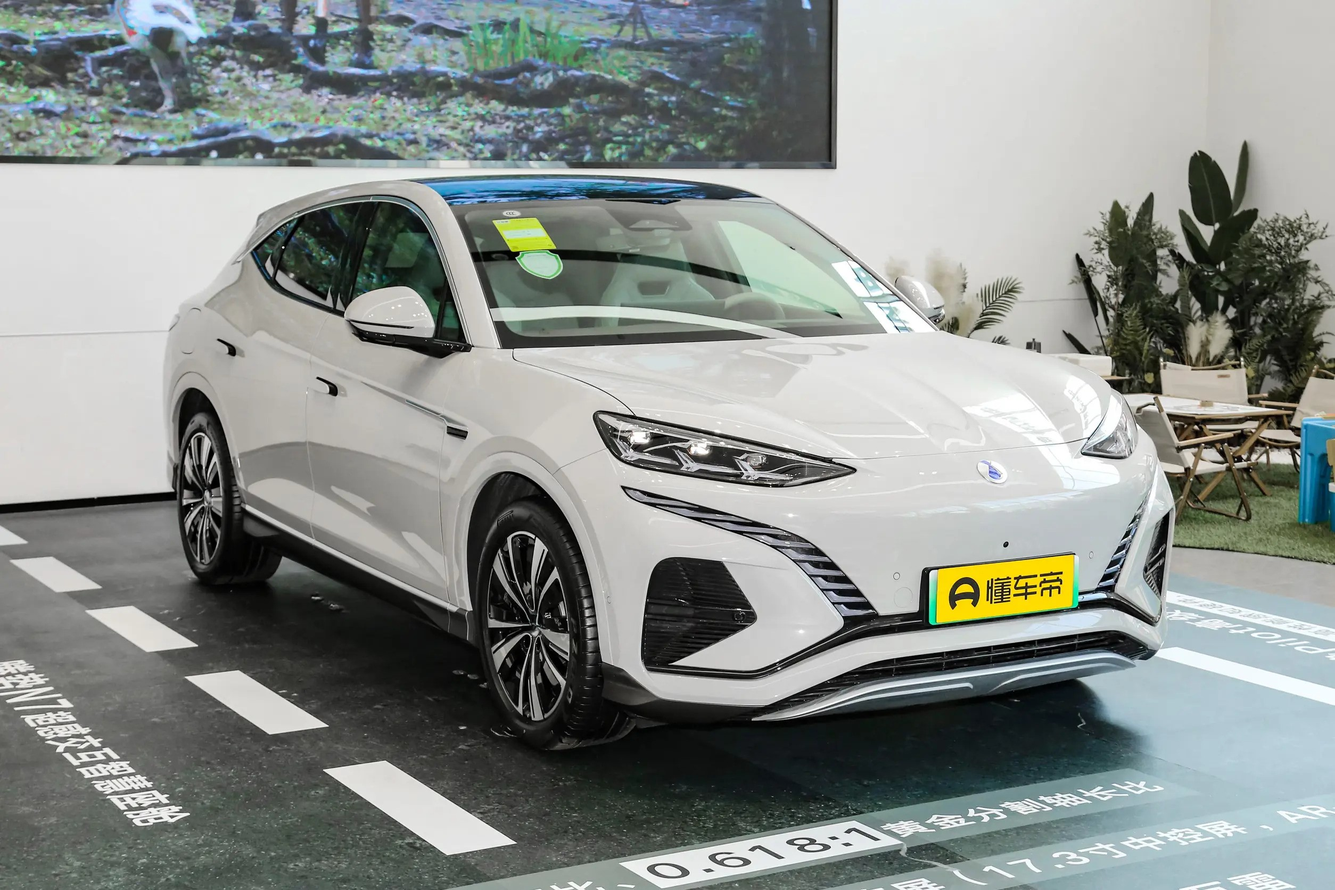DENZA: (977, 459, 1007, 483)
